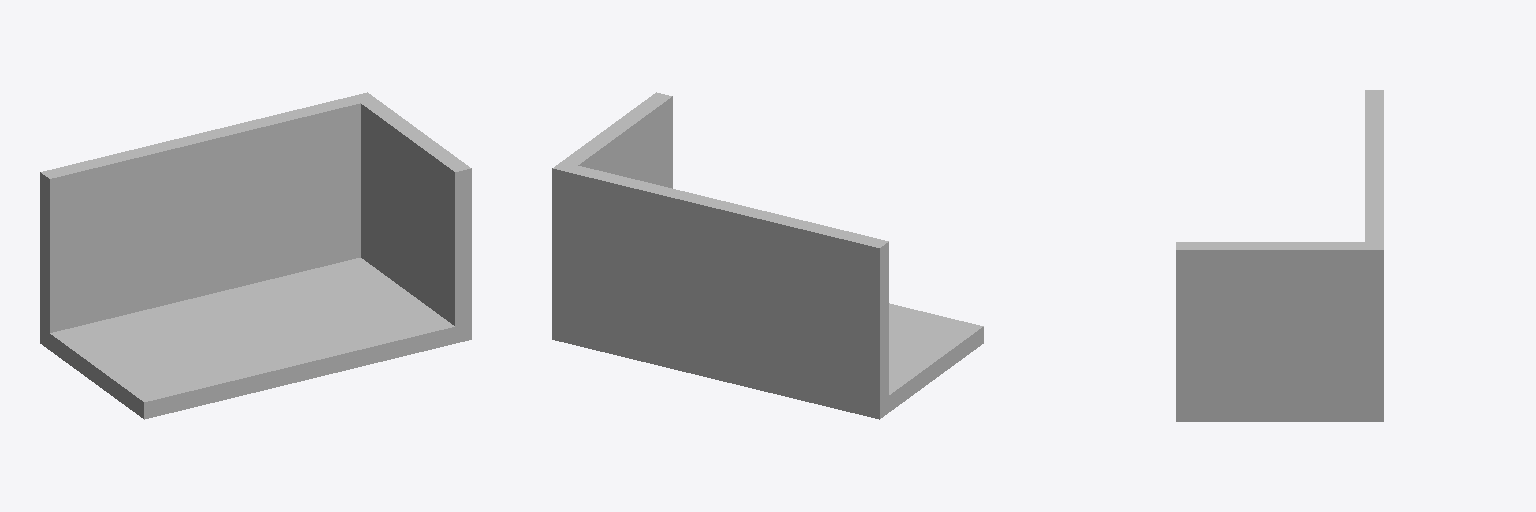
The model's file is Set.obj.
The picture shows the model from 3 angles: view 1: azimuth 30°, elevation 25°; view 2: azimuth 150°, elevation 25°; view 3: azimuth 270°, elevation 25°; orthographic projection.
Parts seen in each view (by area): view 1: Cube.001; view 2: Cube.001; view 3: Cube.001.
Part boxes in pixels (x1,y1,x2,y2): Cube.001: (40,92,471,419); Cube.001: (552,92,983,419); Cube.001: (1176,90,1383,421).
Bounding box in the file's own units: 40 × 20 × 22.